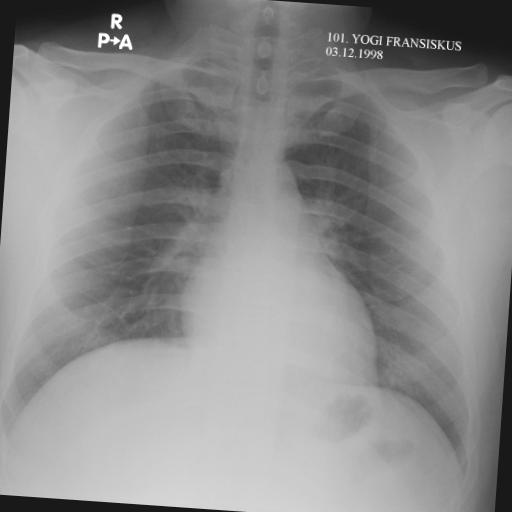normal: (0, 32, 509, 499)
